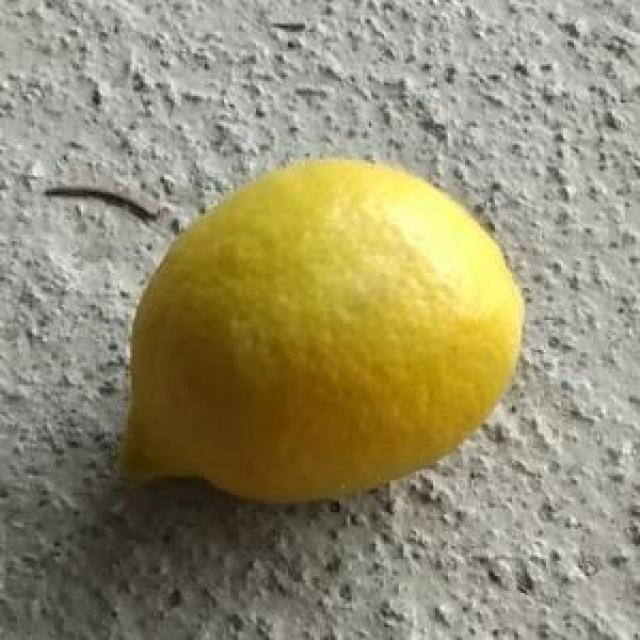lemon: (100, 156, 532, 506)
